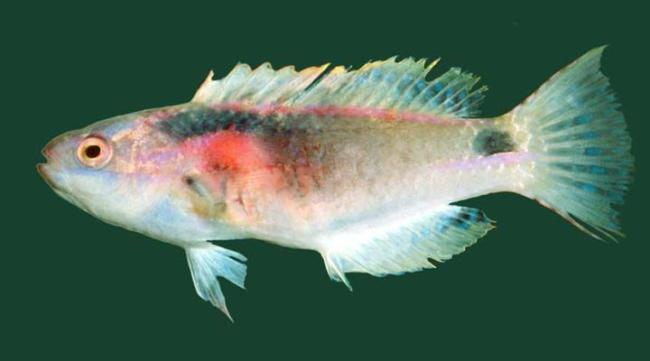fish: (35, 43, 633, 325)
